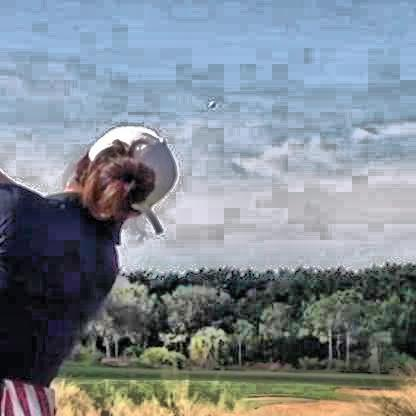golfball: (205, 98, 212, 105)
